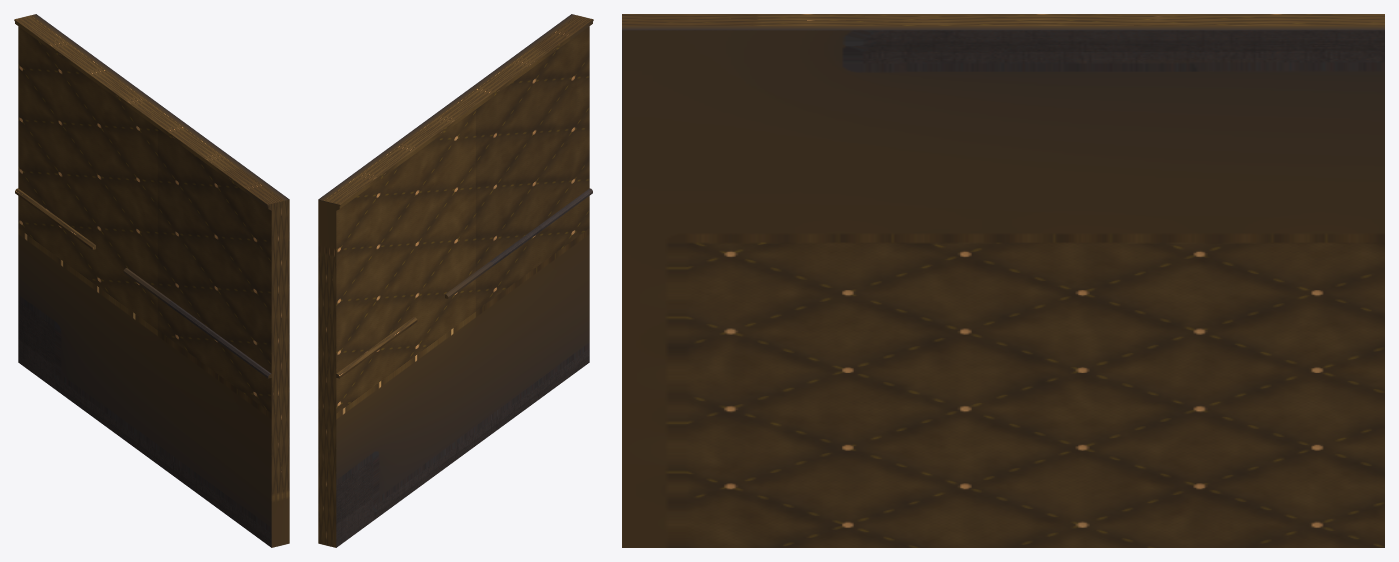
File: WallTEXTURES.fbx
3 views of the same model, side by side, from view 1: azimuth 30°, elevation 25°; view 2: azimuth 150°, elevation 25°; view 3: azimuth 270°, elevation 25° (orthographic). The views are drawn at different scales.
Visible parts, largest first — view 1: 4 wall; view 2: 4 wall; view 3: 4 wall.
Part boxes in pixels (left/top/right/bottom): 4 wall: left=14, top=14, right=289, bottom=547; 4 wall: left=318, top=14, right=593, bottom=547; 4 wall: left=622, top=14, right=1384, bottom=547.
Size of the model in its own units: 50.25 by 749 by 1000.
